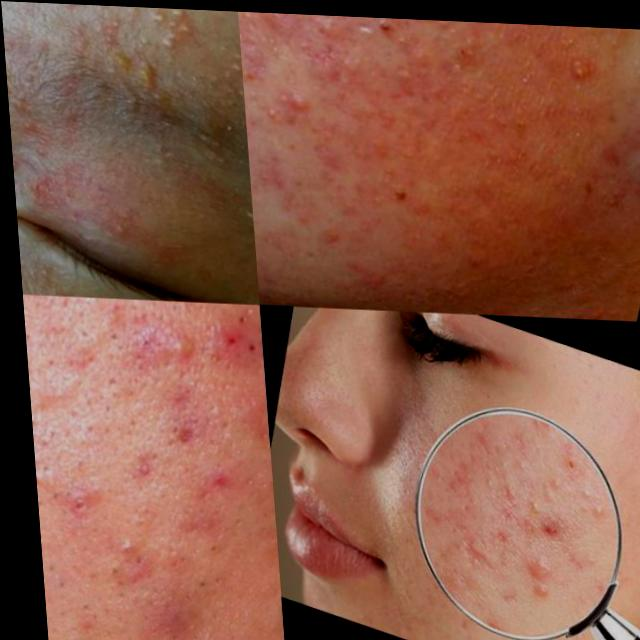8: (149, 315, 206, 369), (516, 569, 550, 604)
blackheads: (448, 537, 489, 580), (487, 476, 516, 516), (531, 512, 562, 539)
dark spot: (78, 552, 133, 598)
